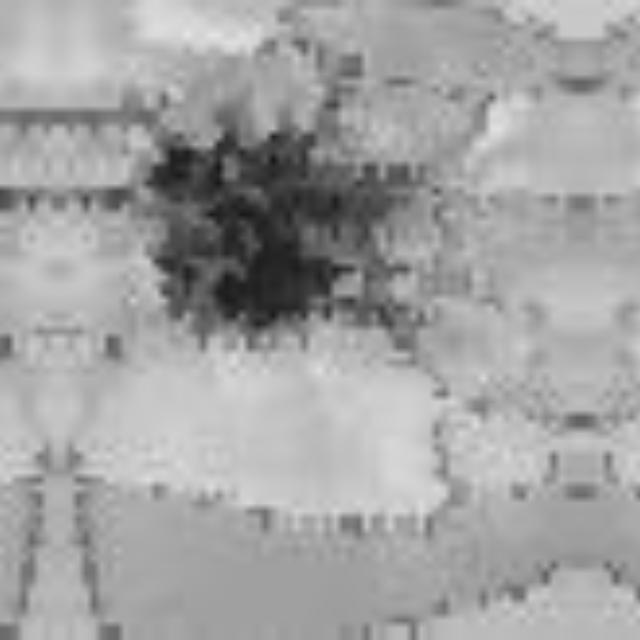good_void: (99, 38, 447, 383)
